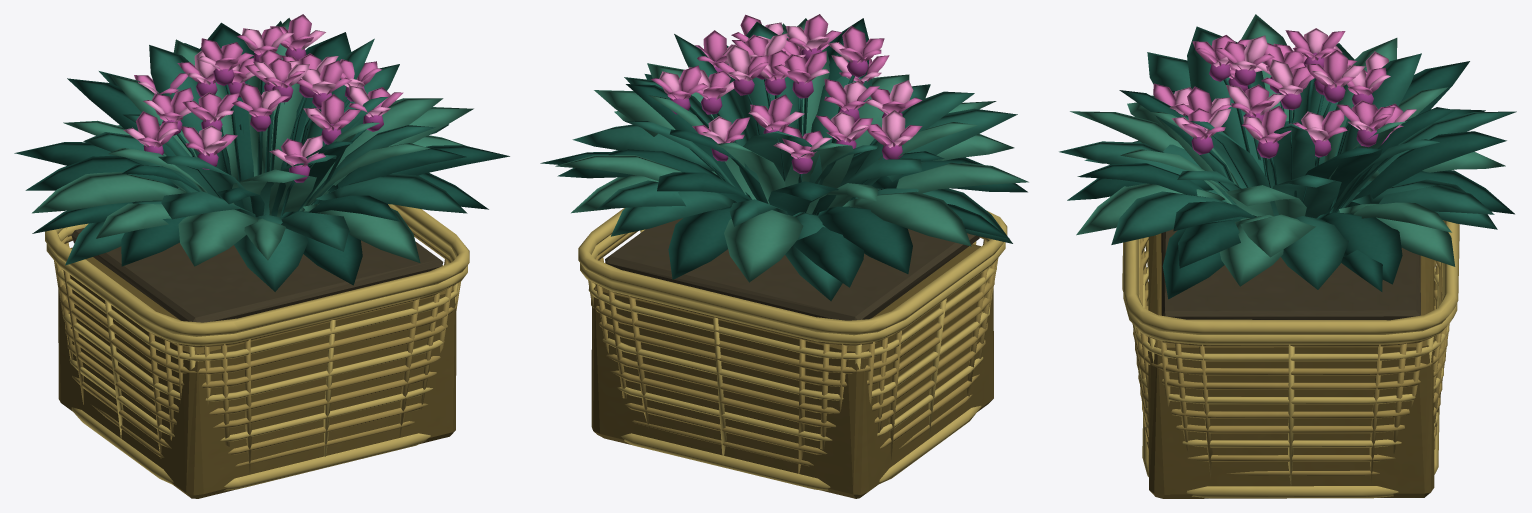
File: 02_Flower_Basket_LOD1.fbx
3 views of the same model, side by side, from view 1: azimuth 30°, elevation 25°; view 2: azimuth 150°, elevation 25°; view 3: azimuth 270°, elevation 25° (orthographic). The views are drawn at different scales.
Visible parts, largest first — view 1: 02_Flower_Basket_LOD1_Mesh; view 2: 02_Flower_Basket_LOD1_Mesh; view 3: 02_Flower_Basket_LOD1_Mesh.
Boxes of the visible parts, x1=… form: 02_Flower_Basket_LOD1_Mesh: x1=14, y1=14, x2=509, y2=498; 02_Flower_Basket_LOD1_Mesh: x1=540, y1=14, x2=1028, y2=498; 02_Flower_Basket_LOD1_Mesh: x1=1059, y1=14, x2=1516, y2=498.
Size of the model in its own units: 27.54 by 23.02 by 24.57.
1 material, 1 textured.
